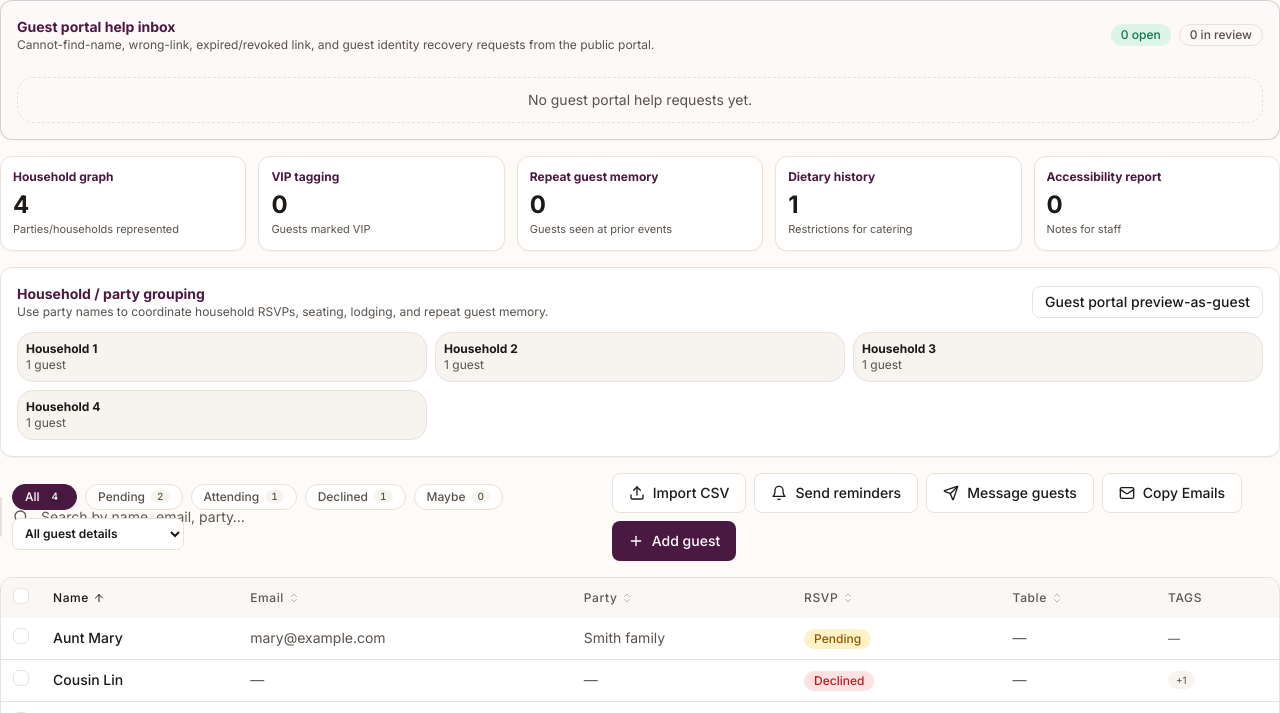
Test: EventGuestsTab › selecting a guest reveals the bulk-actions bar
Expected: the text "Aunt Mary" is shown, [41,618,238,659]
Click the checkbox named "Select Aunt Mary" at [21, 636], box [13,628,29,644]
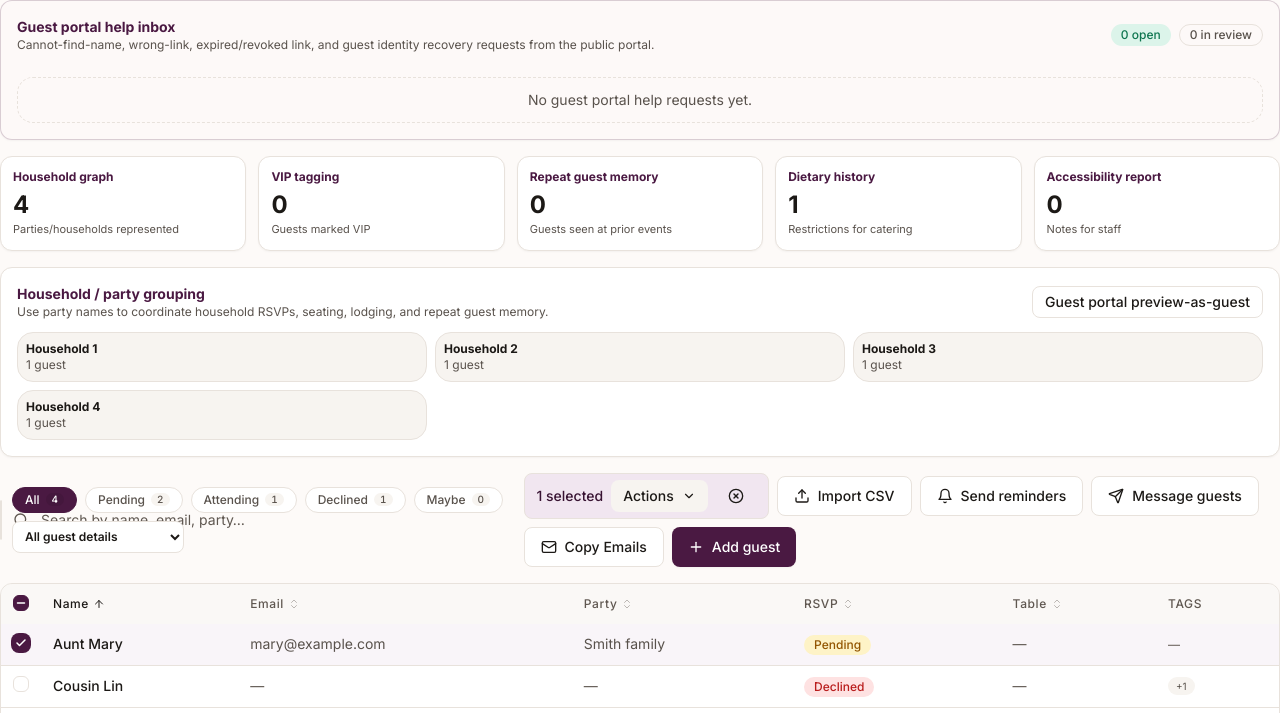
Expected: the text "1 selected" is shown, [536,486,603,506]
